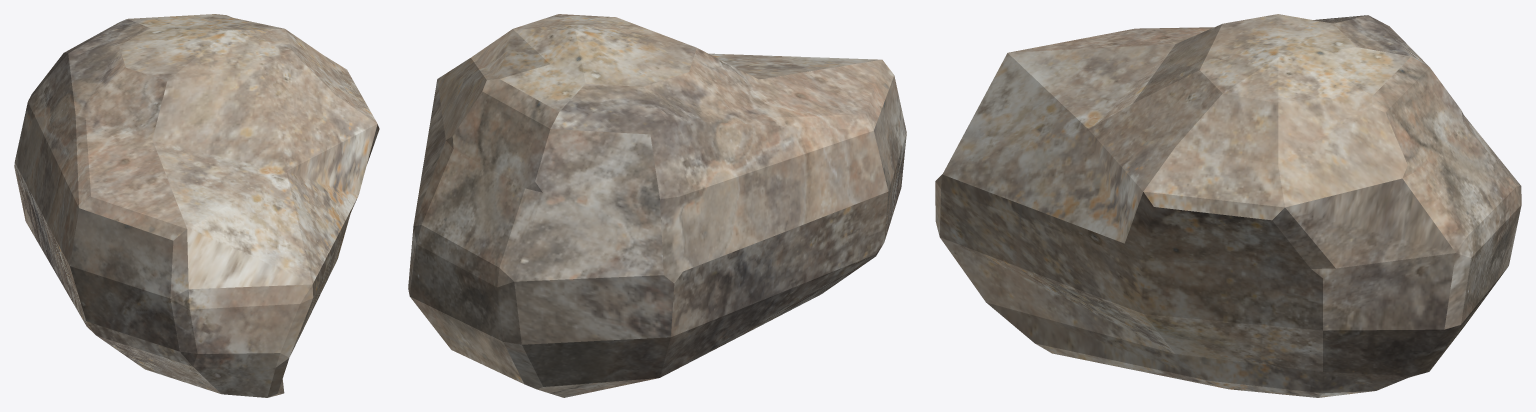
The model's file is rock.glb.
The picture shows the model from 3 angles, left to right: view 1: azimuth 30°, elevation 25°; view 2: azimuth 150°, elevation 25°; view 3: azimuth 270°, elevation 25°; orthographic projection. The views are drawn at different scales.
Visible parts, largest first — view 1: rock; view 2: rock; view 3: rock.
Boxes of the visible parts, box(x1,y1,x2,y2) form: rock: box(14, 14, 379, 397); rock: box(408, 14, 906, 397); rock: box(935, 14, 1521, 397).
Bounding box in the file's own units: 0.2094 × 0.1717 × 0.2703.
1 material, 1 textured.
